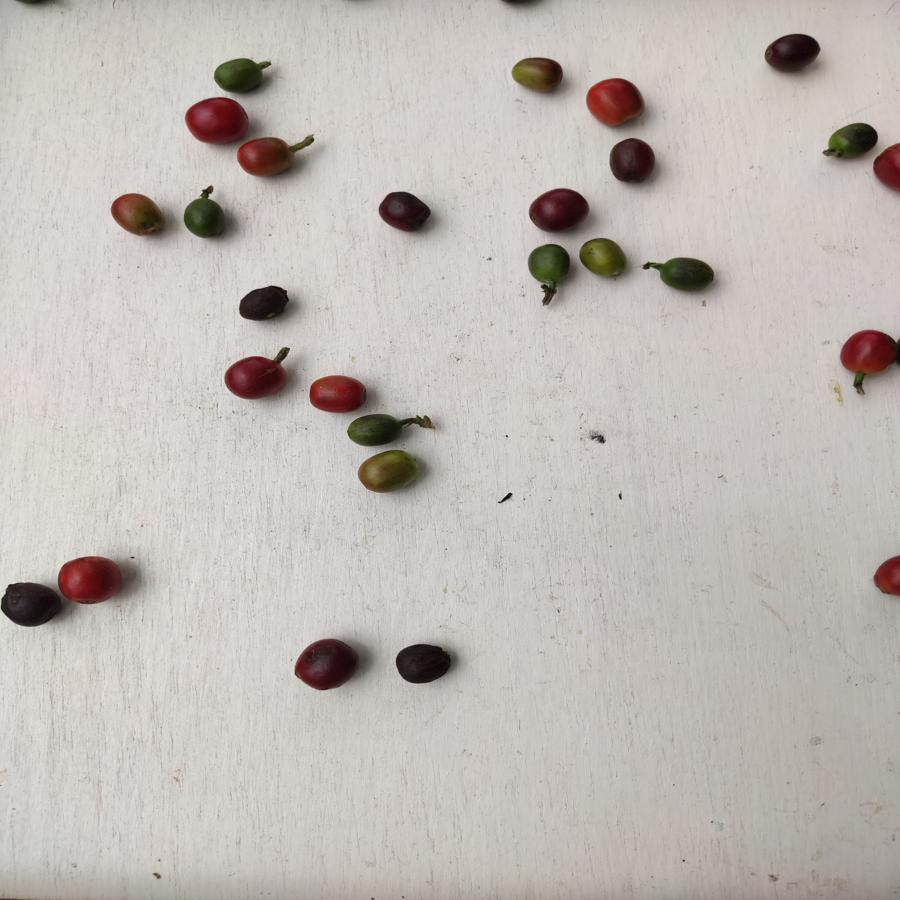Inmaduro: (648, 254, 718, 296), (823, 118, 876, 162), (346, 410, 409, 446), (524, 241, 571, 289), (181, 197, 230, 241), (211, 55, 264, 93)
Maduro: (57, 554, 127, 607), (181, 94, 250, 147), (585, 78, 648, 127), (238, 135, 294, 183), (304, 372, 370, 412), (839, 329, 895, 376)
Pinton: (355, 450, 424, 497), (104, 192, 172, 238), (506, 55, 567, 97), (577, 233, 627, 280)
Sobremaduro: (293, 634, 362, 696), (224, 353, 287, 402), (603, 136, 660, 185), (393, 640, 453, 685), (528, 189, 588, 232), (375, 190, 435, 232), (761, 33, 819, 75), (234, 285, 289, 324)
